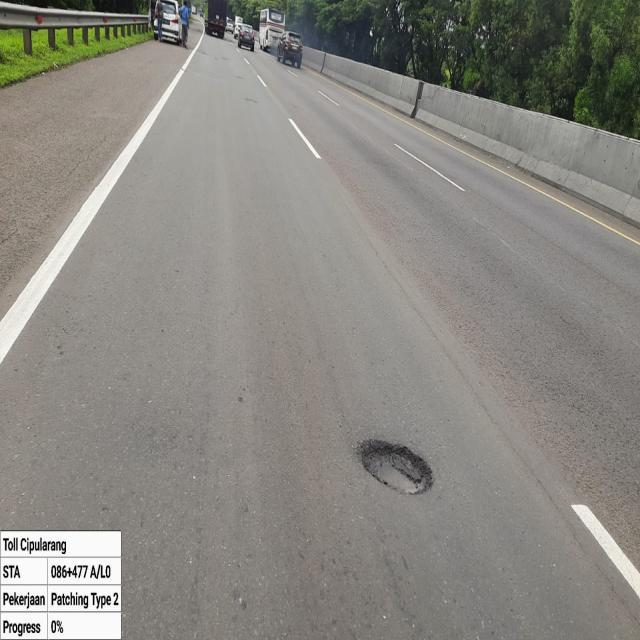Buraco: (354, 436, 437, 498)
